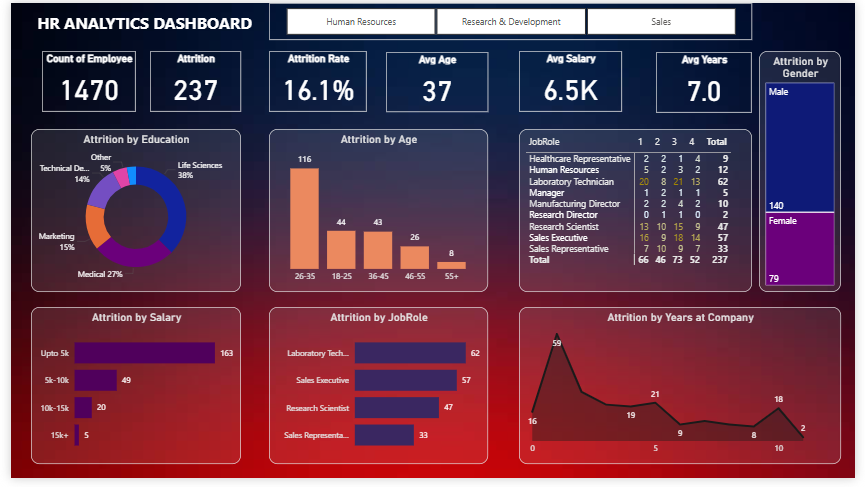

What the dashboard file says about the page in this screenshot:
{"tool":"powerbi","page":{"name":"Page 1","canvas":[1280,720],"ordinal":0},"visuals":[{"type":"card","title":"Count of Employee","fields":{"Values":["CountNonNull(HR_Analytics.EmpID)"]},"box":[47,72.7,142.4,92.4],"z":0},{"type":"card","title":"Attrition","fields":{"Values":["Sum(HR_Analytics.AttritionCount)"]},"box":[210.6,72.7,137.9,92.4],"z":1000},{"type":"card","title":"Attrition Rate","fields":{"Values":["HR_Analytics.AttritionRate"]},"box":[390.9,72.7,148.5,92.4],"z":2000},{"type":"card","title":"Avg Age","fields":{"Values":["Avg(HR_Analytics.Age)"]},"box":[568.2,74.2,154.5,90.9],"z":3000},{"type":"card","title":"Avg Salary","fields":{"Values":["Avg(HR_Analytics.MonthlyIncome)"]},"box":[769.7,72.7,156.1,92.4],"z":3001},{"type":"card","title":"Avg Years","fields":{"Values":["Avg(HR_Analytics.YearsAtCompany)"]},"box":[977.3,74.2,145.5,92.4],"z":3002},{"type":"donutChart","title":"Attrition by Education","fields":{"Category":["HR_Analytics.EducationField"],"Y":["Sum(HR_Analytics.AttritionCount)"]},"box":[30.3,190.9,318.2,247],"z":3003},{"type":"columnChart","title":"Attrition by Age","fields":{"Category":["HR_Analytics.AgeGroup"],"Y":["Sum(HR_Analytics.AttritionCount)"]},"box":[390.9,190.9,331.8,247],"z":3004},{"type":"pivotTable","fields":{"Rows":["HR_Analytics.JobRole"],"Columns":["HR_Analytics.JobSatisfaction"],"Values":["Sum(HR_Analytics.AttritionCount)"]},"box":[769.7,190.9,353,247],"z":3005},{"type":"barChart","title":"Attrition by Salary","fields":{"Category":["HR_Analytics.SalarySlab"],"Y":["Sum(HR_Analytics.AttritionCount)"]},"box":[30.3,460.6,318.2,237.9],"z":3006},{"type":"barChart","title":"Attrition by JobRole","fields":{"Category":["HR_Analytics.JobRole"],"Y":["Sum(HR_Analytics.AttritionCount)"]},"box":[390.9,460.6,331.8,237.9],"z":3007},{"type":"areaChart","title":"Attrition by Years at Company","fields":{"Category":["HR_Analytics.YearsAtCompany"],"Y":["Sum(HR_Analytics.AttritionCount)"]},"box":[769.7,460.6,487.9,237.9],"z":3008},{"type":"treemap","title":"Attrition by Gender","fields":{"Group":["HR_Analytics.Gender"],"Values":["Sum(HR_Analytics.AttritionCount)"]},"box":[1133.3,72.7,124.2,365.2],"z":3009},{"type":"slicer","fields":{"Values":["HR_Analytics.Department"]},"box":[390.9,0,731.8,56.1],"z":3010},{"type":"textbox","box":[13.6,9.1,377.3,47],"z":3011}]}

Visuals, with their boxes in screenshot pixels (x1, y1, x2, y2), scaled from the page's 1280x720 canvas onto the 865x487 screenshot:
"Count of Employee" card: l=32, t=49, r=128, b=112
"Attrition" card: l=142, t=49, r=236, b=112
"Attrition Rate" card: l=264, t=49, r=365, b=112
"Avg Age" card: l=384, t=50, r=488, b=112
"Avg Salary" card: l=520, t=49, r=626, b=112
"Avg Years" card: l=660, t=50, r=759, b=113
"Attrition by Education" donutChart: l=20, t=129, r=236, b=296
"Attrition by Age" columnChart: l=264, t=129, r=488, b=296
pivotTable - HR_Analytics.JobRole x HR_Analytics.JobSatisfaction: l=520, t=129, r=759, b=296
"Attrition by Salary" barChart: l=20, t=312, r=236, b=472
"Attrition by JobRole" barChart: l=264, t=312, r=488, b=472
"Attrition by Years at Company" areaChart: l=520, t=312, r=850, b=472
"Attrition by Gender" treemap: l=766, t=49, r=850, b=296
slicer - HR_Analytics.Department: l=264, t=0, r=759, b=38
textbox: l=9, t=6, r=264, b=38
